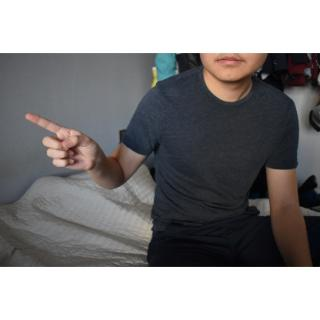BAA: (23, 110, 104, 175)
